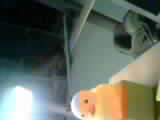duck: (70, 66, 123, 116)
